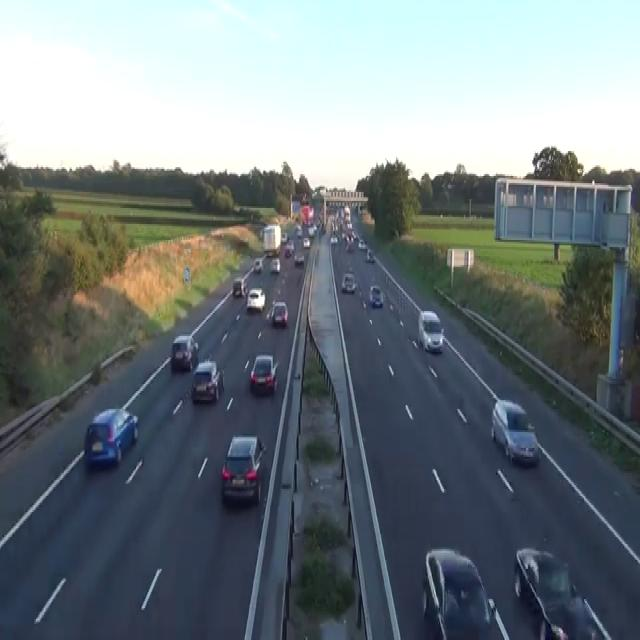Car: (513, 546, 612, 638), (421, 546, 510, 638), (490, 398, 540, 466), (83, 407, 138, 468), (220, 434, 266, 505), (539, 596, 612, 638), (190, 359, 224, 402), (417, 309, 444, 352), (249, 354, 278, 394), (171, 334, 198, 372), (266, 300, 288, 326), (246, 288, 265, 311), (369, 284, 383, 308), (340, 272, 356, 293), (232, 277, 247, 297), (270, 256, 280, 274), (253, 258, 263, 272), (294, 252, 304, 265), (366, 247, 374, 261), (266, 306, 273, 322), (357, 238, 367, 249), (294, 224, 302, 236), (307, 224, 315, 236), (286, 238, 294, 249), (264, 249, 273, 258), (302, 237, 310, 247), (346, 242, 354, 252), (281, 231, 288, 242), (284, 247, 292, 256), (351, 229, 357, 240), (330, 234, 337, 243), (347, 220, 352, 230)
Truck: (261, 224, 281, 256), (300, 204, 313, 226), (290, 201, 300, 220)
